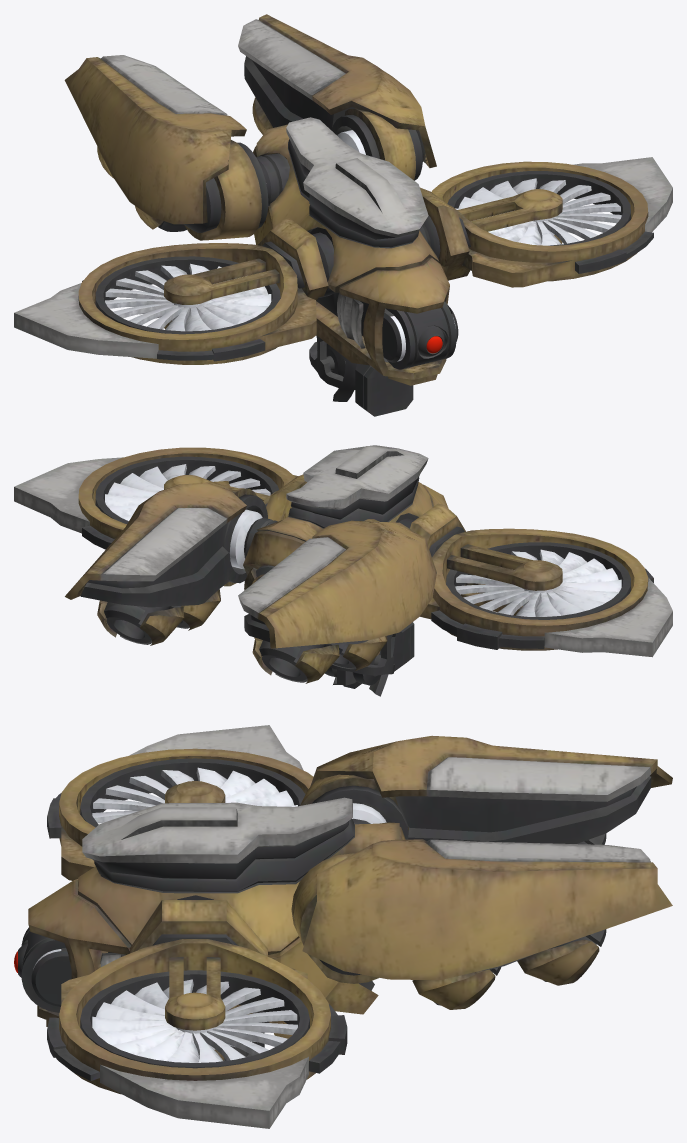
File: drone.glb
3 renders of one model, top to bottom at view 1: azimuth 30°, elevation 25°; view 2: azimuth 150°, elevation 25°; view 3: azimuth 270°, elevation 25°, orthographic. The views are drawn at different scales.
Parts seen in each view (by area): view 1: drone; view 2: drone; view 3: drone.
Part boxes in pixels (x1,y1,x2,y2): drone: [14, 14, 672, 416]; drone: [14, 445, 672, 696]; drone: [14, 725, 672, 1128].
Bounding box in the file's own units: 1.08 × 0.3824 × 0.777.
Materials: 1 (1 with a texture image).
